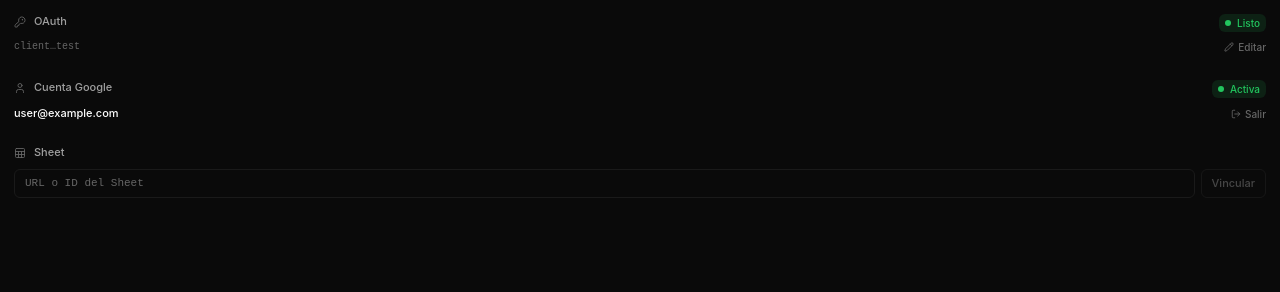
GoogleAuthPanel Sheet persistence › shows that a Sheet opened but its configuration was not persisted
Type "1AbCdEfGhIjKlMnOpQrSt" into the field with placeholder "URL o ID del Sheet" at (604, 184), box [14,169,1195,198]
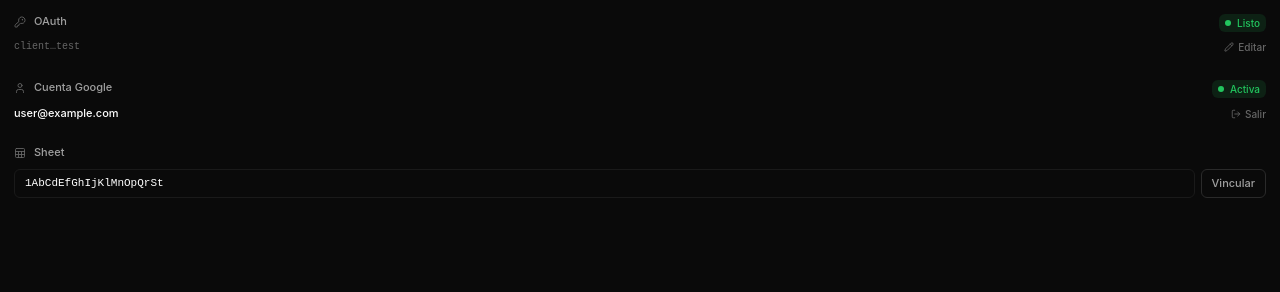
Click the button "Vincular" at (1233, 184), box [1201,169,1266,198]
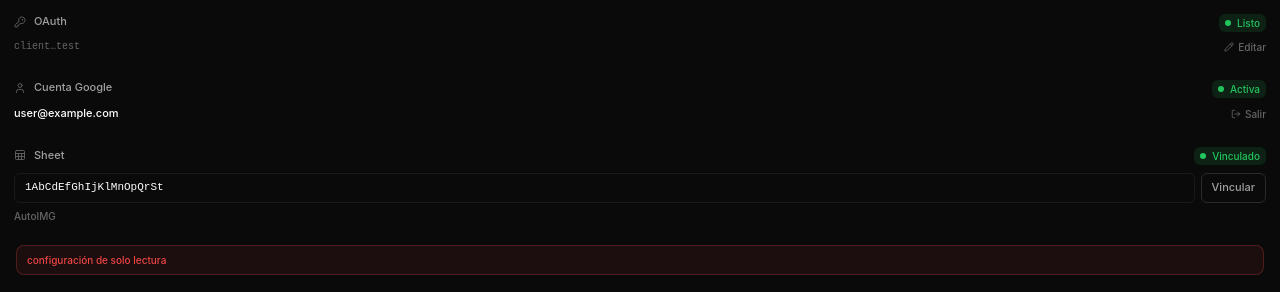
Check: the text "configuración de solo lectura" is shown, box [16,245,1264,275]
